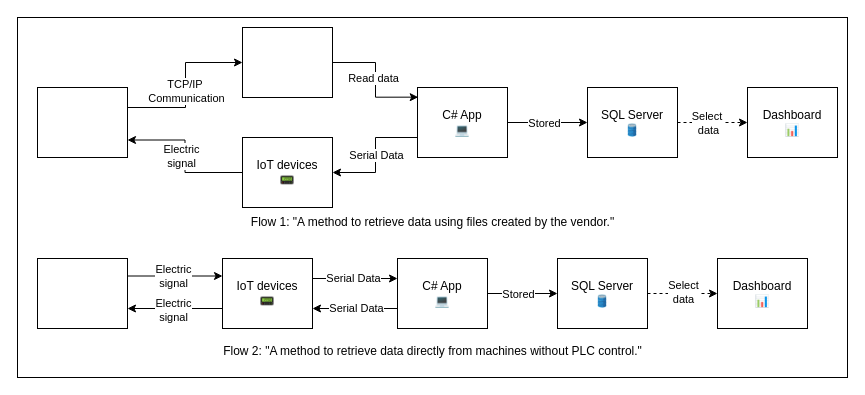
The diagram is 865 pixels wide and 395 high, and some of its shapes have lost their labels. Here are the shapes that lost their labels. From the top down, the centre of each, then its label:
At (287,62): "Files data from vendor program 💻".
At (82,122): "Machine(PLC) 🏭".
At (82,293): "Machine 🏭".
